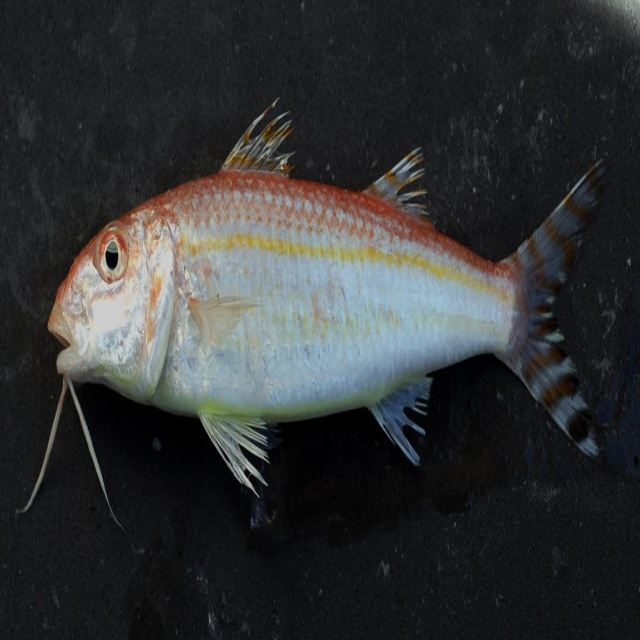Fish: (36, 124, 595, 495)
